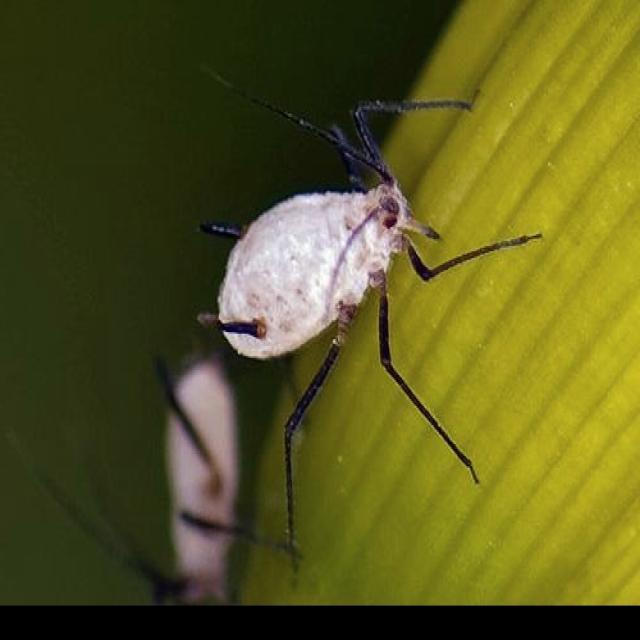aphid: (190, 74, 520, 530)
